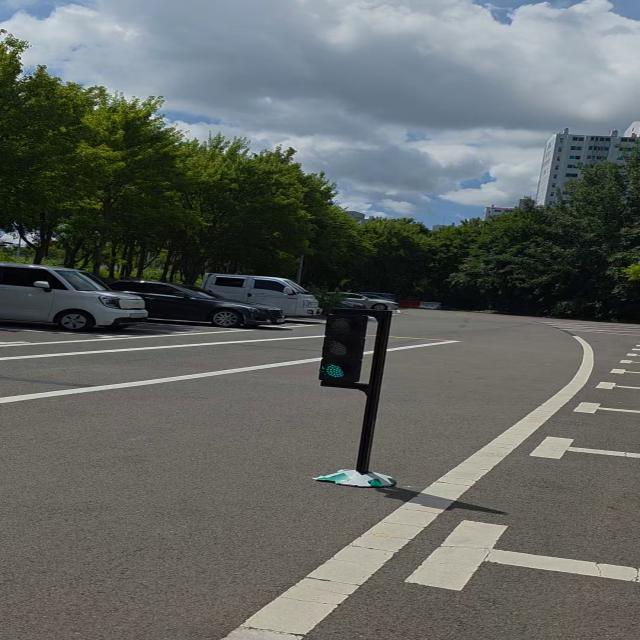green: (317, 307, 375, 388)
